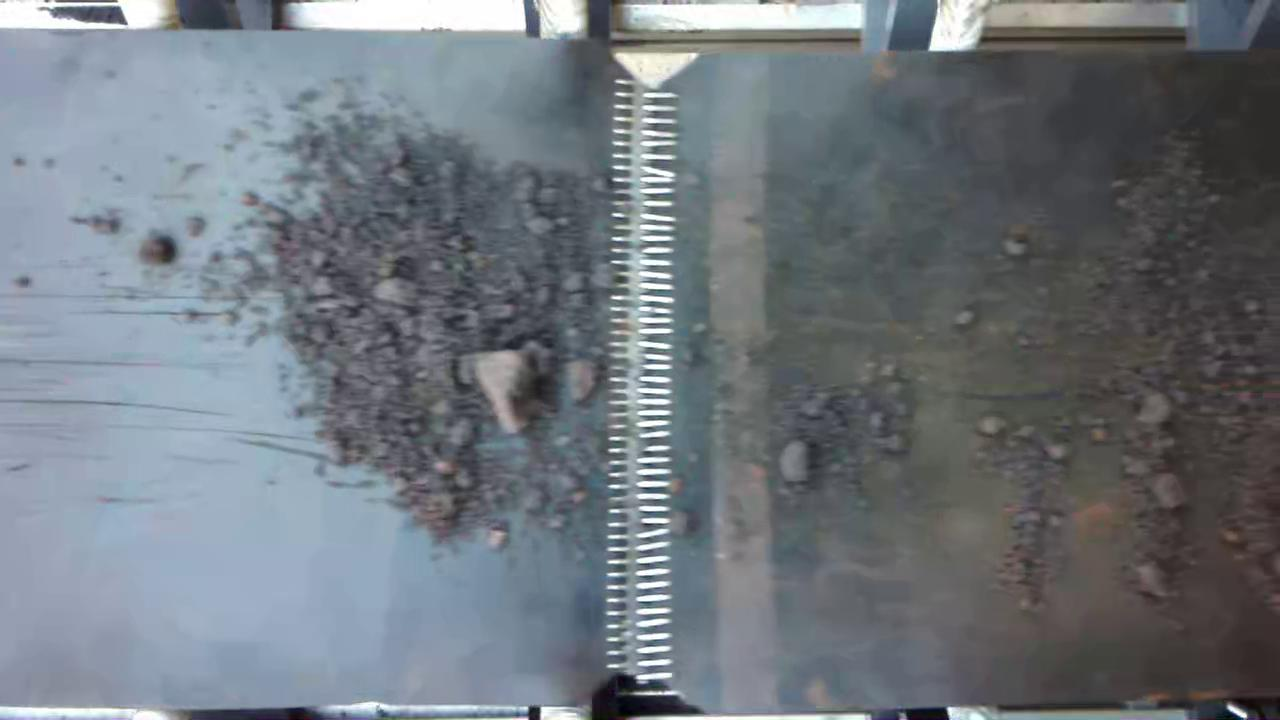conveyor: (0, 49, 1280, 705)
